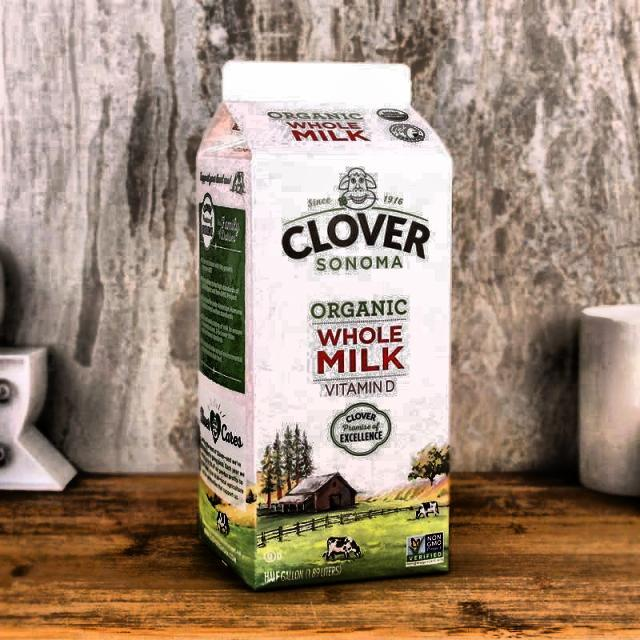cardboard: (195, 59, 453, 590)
